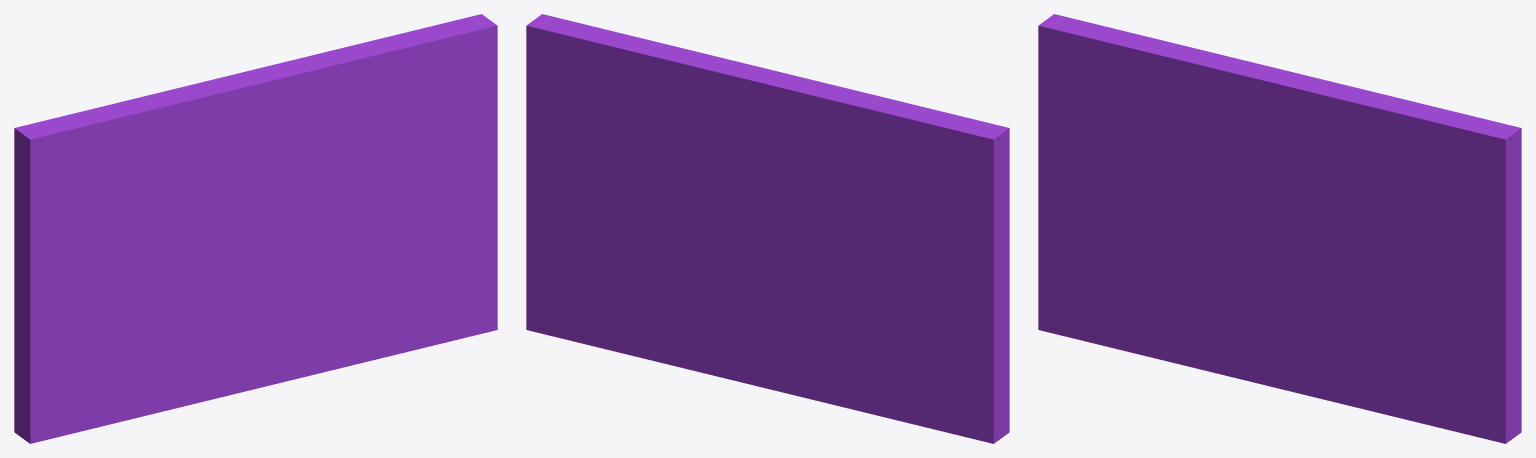
Rendered from Barrier_88_chunks.fbx.
The picture shows the model from 3 angles, left to right: view 1: azimuth 30°, elevation 25°; view 2: azimuth 150°, elevation 25°; view 3: azimuth 330°, elevation 25°; orthographic projection.
Parts seen in each view (by area): view 1: Barrier_88_1, Barrier_88_8, Barrier_88_9, Barrier_88_3, Barrier_88_7, Barrier_88_5, Barrier_88_2, Barrier_88_4; view 2: Barrier_88_1, Barrier_88_8, Barrier_88_2, Barrier_88_3, Barrier_88_9, Barrier_88_5, Barrier_88_6, Barrier_88_7, Barrier_88_0; view 3: Barrier_88_1, Barrier_88_8, Barrier_88_9, Barrier_88_3, Barrier_88_7, Barrier_88_5, Barrier_88_2, Barrier_88_4.
Boxes of the visible parts, x1,y1,x2,y2 form: Barrier_88_1: (266, 14, 497, 365); Barrier_88_8: (14, 79, 237, 221); Barrier_88_9: (185, 53, 346, 247); Barrier_88_3: (189, 237, 351, 393); Barrier_88_7: (14, 184, 222, 293); Barrier_88_5: (14, 252, 205, 377); Barrier_88_2: (14, 344, 232, 443); Barrier_88_4: (121, 295, 237, 394); Barrier_88_1: (526, 14, 750, 365); Barrier_88_8: (793, 77, 1009, 218); Barrier_88_2: (780, 313, 1009, 443); Barrier_88_3: (673, 250, 842, 391); Barrier_88_9: (685, 51, 837, 233); Barrier_88_5: (820, 252, 1009, 369); Barrier_88_6: (831, 171, 1001, 262); Barrier_88_7: (823, 211, 1009, 286); Barrier_88_0: (735, 172, 848, 252); Barrier_88_1: (1274, 89, 1521, 443); Barrier_88_8: (1038, 14, 1254, 145); Barrier_88_9: (1194, 63, 1362, 238); Barrier_88_3: (1197, 223, 1360, 408); Barrier_88_7: (1038, 108, 1230, 227); Barrier_88_5: (1038, 179, 1213, 274); Barrier_88_2: (1038, 264, 1240, 379); Barrier_88_4: (1129, 259, 1245, 380).
Size of the model in its own units: 462 by 288 by 27.2.
